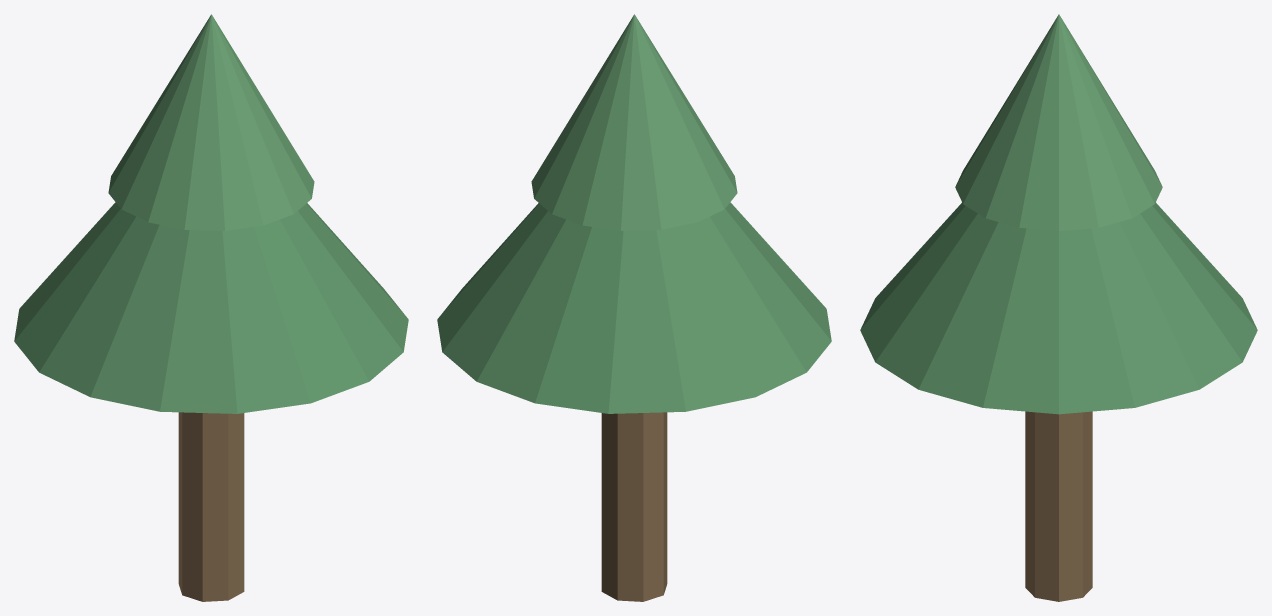
Rendered from dead_tree.glb.
3 renders of one model, left to right at view 1: azimuth 30°, elevation 25°; view 2: azimuth 150°, elevation 25°; view 3: azimuth 270°, elevation 25°, orthographic.
Parts seen in each view (by area): view 1: tree_0_1, tree_0_2, tree_0_0; view 2: tree_0_1, tree_0_2, tree_0_0; view 3: tree_0_1, tree_0_2, tree_0_0.
Part boxes in pixels (bbox=[...]): tree_0_1: bbox=[14, 202, 408, 413]; tree_0_2: bbox=[108, 14, 314, 230]; tree_0_0: bbox=[178, 412, 244, 601]; tree_0_1: bbox=[437, 202, 831, 413]; tree_0_2: bbox=[531, 14, 737, 230]; tree_0_0: bbox=[601, 412, 667, 601]; tree_0_1: bbox=[860, 202, 1257, 414]; tree_0_2: bbox=[955, 14, 1162, 231]; tree_0_0: bbox=[1025, 411, 1092, 601].
Bounding box in the file's own units: 2.63 × 4.18 × 2.63.
